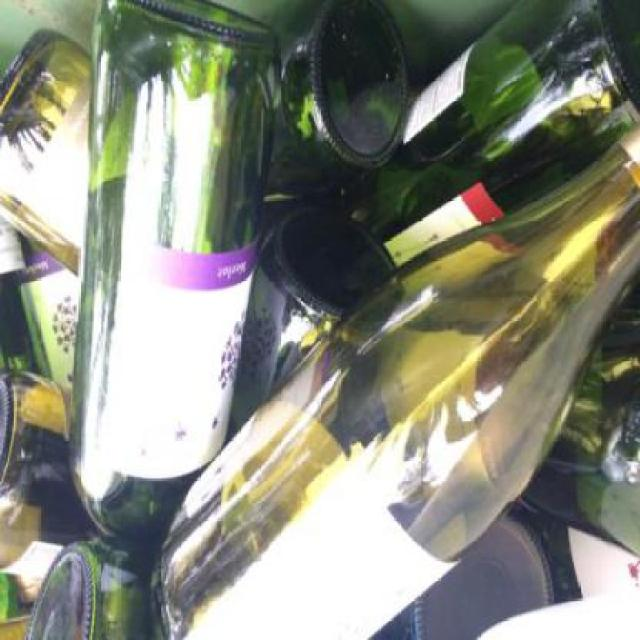kaca: (150, 119, 638, 638), (71, 0, 278, 560), (342, 0, 638, 234), (228, 202, 397, 458), (246, 0, 411, 194), (518, 304, 640, 558), (0, 29, 88, 286), (0, 369, 89, 606), (21, 534, 148, 638), (0, 215, 42, 377)
